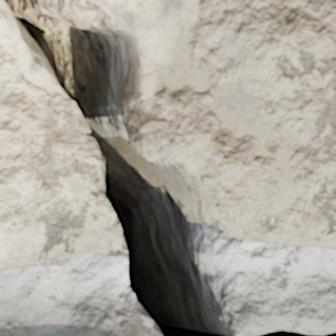broken_brick: (109, 0, 335, 249), (0, 0, 121, 270)
crack: (1, 0, 335, 335)
